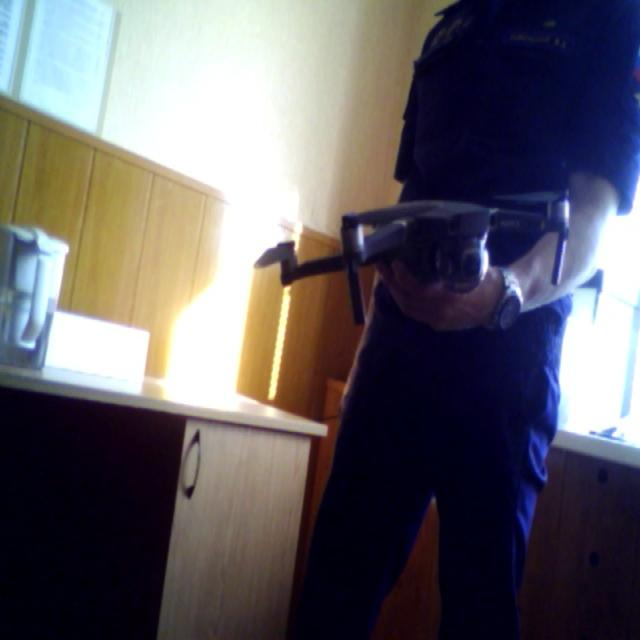drone: (252, 183, 597, 310)
